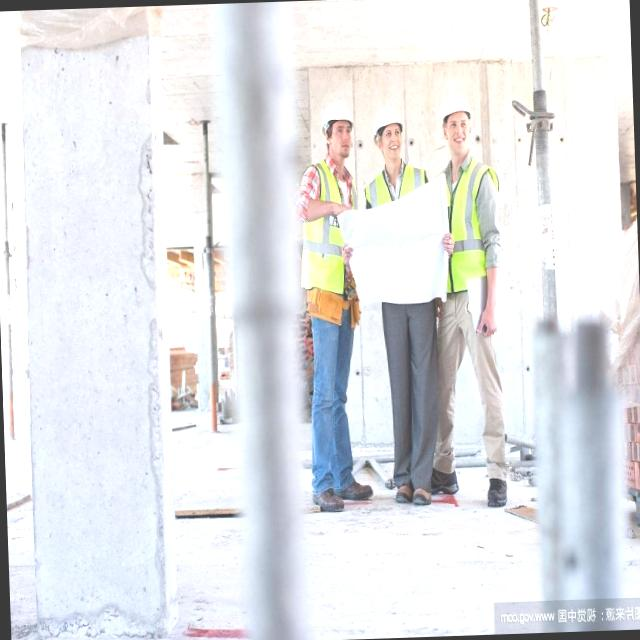helmet: (367, 100, 406, 148), (318, 96, 352, 140), (439, 90, 472, 126)
no-goggles: (371, 122, 407, 149), (322, 122, 352, 148), (440, 116, 474, 138)
vest: (432, 154, 506, 316), (291, 164, 366, 321), (364, 162, 424, 223)
